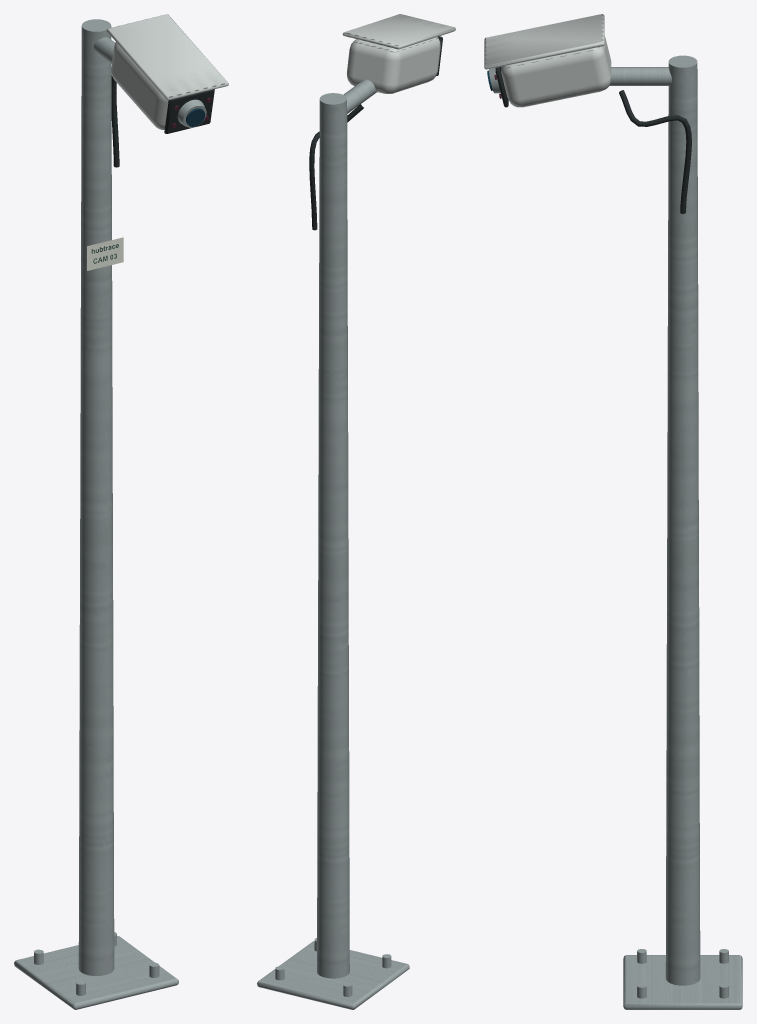
File: security-camera.glb
The picture shows the model from 3 angles, left to right: view 1: azimuth 30°, elevation 25°; view 2: azimuth 150°, elevation 25°; view 3: azimuth 270°, elevation 25°; orthographic projection. The views are drawn at different scales.
Parts seen in each view (by area): view 1: cameraHead_galvanized-steel, cameraHead_powdercoat-_c8d0cd, cameraHead_moulded-graphite, security-camera_asset-tag-ink; view 2: cameraHead_galvanized-steel, cameraHead_powdercoat-_c8d0cd, cameraHead_moulded-graphite; view 3: cameraHead_galvanized-steel, cameraHead_powdercoat-_c8d0cd, cameraHead_moulded-graphite.
Part boxes in pixels (x1,y1,x2,y2): cameraHead_galvanized-steel: [14, 19, 206, 1009]; cameraHead_powdercoat-_c8d0cd: [106, 14, 228, 129]; cameraHead_moulded-graphite: [111, 75, 214, 167]; security-camera_asset-tag-ink: [87, 237, 123, 270]; cameraHead_galvanized-steel: [257, 79, 409, 1009]; cameraHead_powdercoat-_c8d0cd: [342, 14, 455, 93]; cameraHead_moulded-graphite: [309, 36, 442, 230]; cameraHead_galvanized-steel: [489, 55, 742, 1009]; cameraHead_powdercoat-_c8d0cd: [484, 14, 611, 107]; cameraHead_moulded-graphite: [495, 66, 691, 213].
Bounding box in the file's own units: 0.2901 × 2.57 × 0.6284.
Materials: 6 (4 with a texture image).
